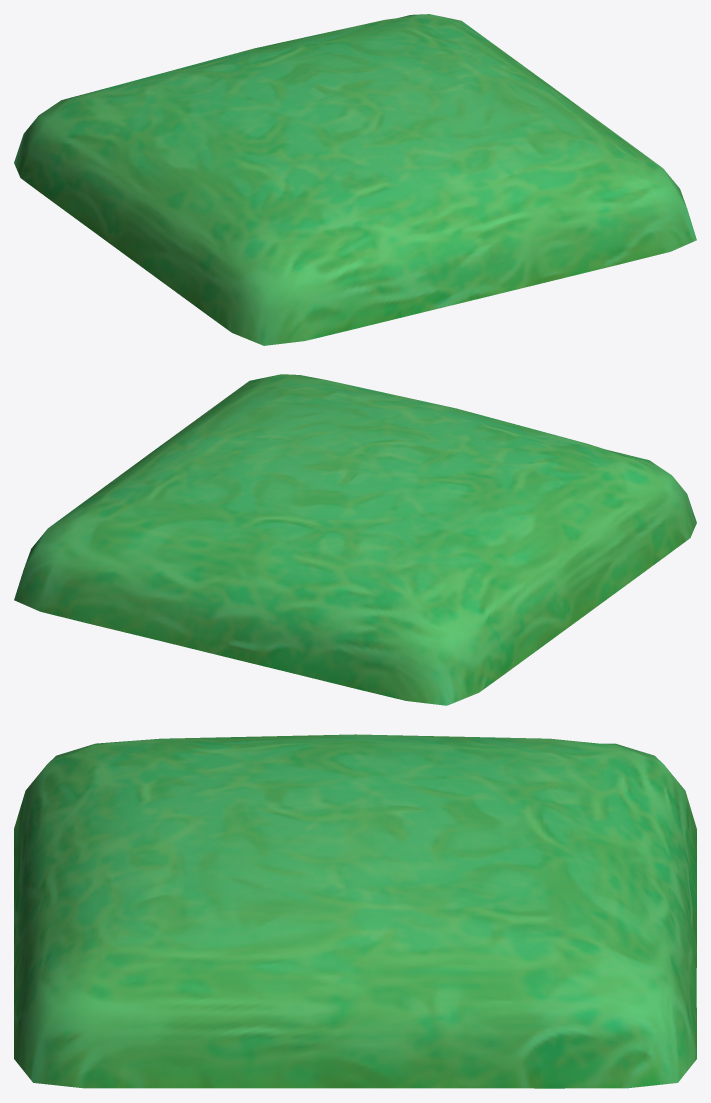
Rendered from GrassV4.fbx.
3 views of the same model, one above another, from view 1: azimuth 30°, elevation 25°; view 2: azimuth 150°, elevation 25°; view 3: azimuth 270°, elevation 25° (orthographic). The views are drawn at different scales.
Parts seen in each view (by area): view 1: GrassV4; view 2: GrassV4; view 3: GrassV4.
Part boxes in pixels (<box>): GrassV4: <box>14,14,696,345</box>; GrassV4: <box>14,374,696,705</box>; GrassV4: <box>14,734,696,1088</box>.
Bounding box in the file's own units: 105 × 22.79 × 105.
